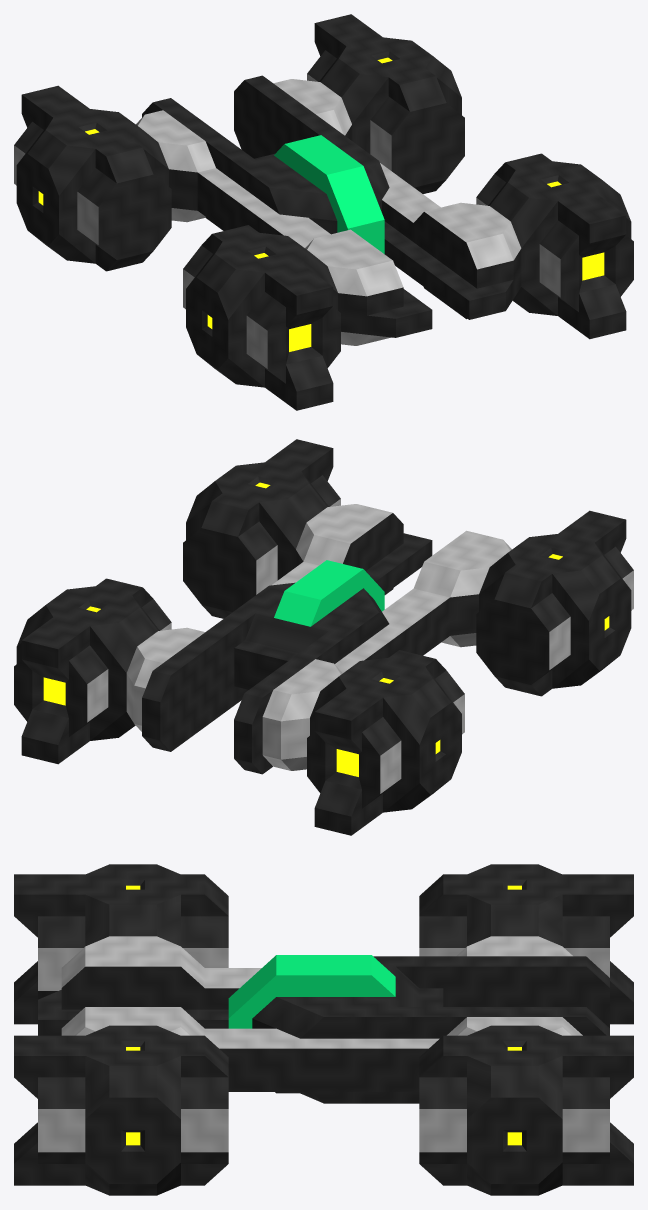
The model's file is Speeder_-_Spaceship.glb.
3 views of the same model, one above another, from view 1: azimuth 30°, elevation 25°; view 2: azimuth 150°, elevation 25°; view 3: azimuth 270°, elevation 25° (orthographic). The views are drawn at different scales.
Visible parts, largest first — view 1: unnamed; view 2: unnamed; view 3: unnamed.
Boxes of the visible parts, x1,y1,x2,y2 form: unnamed: (14, 14, 633, 410); unnamed: (14, 439, 633, 835); unnamed: (14, 864, 633, 1195).
Bounding box in the file's own units: 22 × 6 × 26.
Materials: 1 (1 with a texture image).
